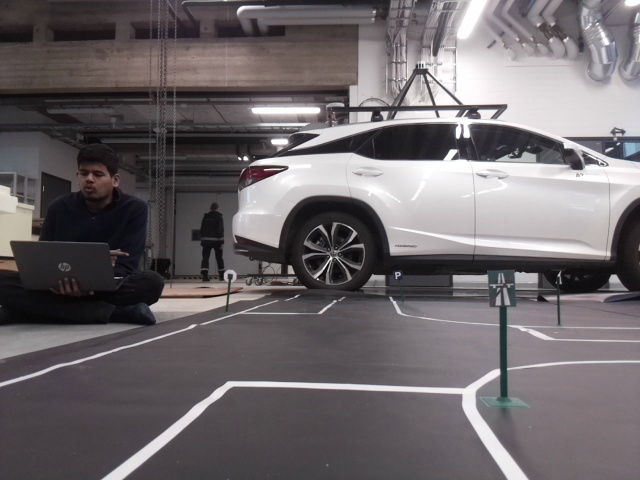HighwayExit: (486, 269, 515, 306)
Parking: (392, 271, 401, 279)
